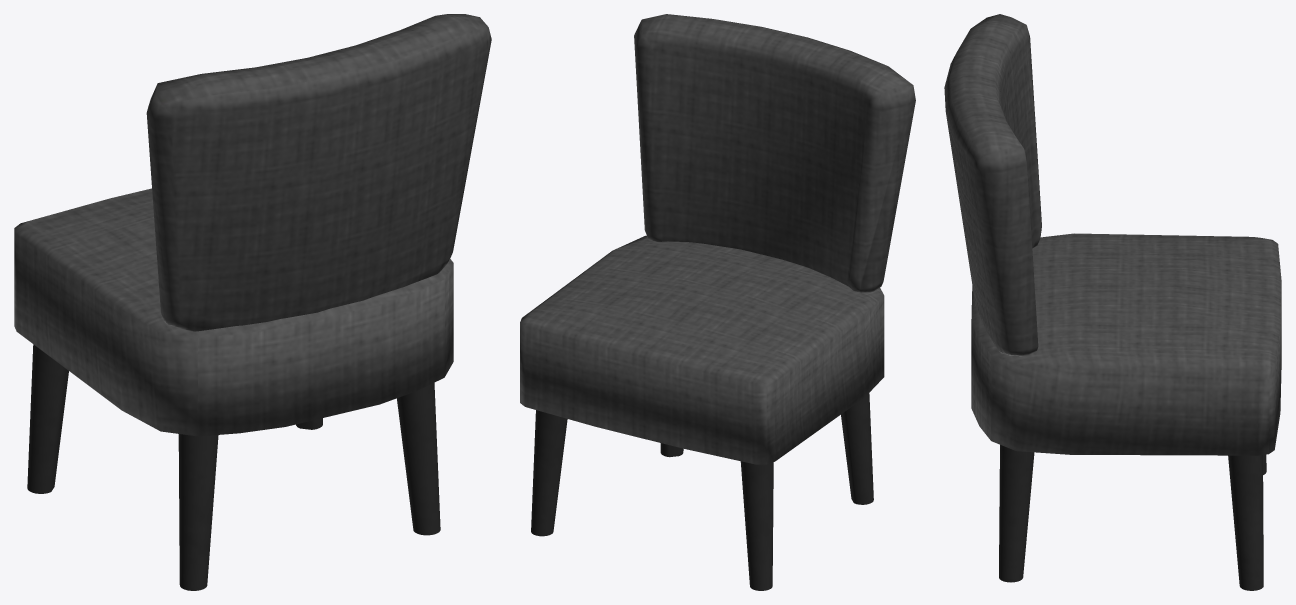
File: LIH0210043.fbx
The picture shows the model from 3 angles, left to right: view 1: azimuth 30°, elevation 25°; view 2: azimuth 150°, elevation 25°; view 3: azimuth 270°, elevation 25°; orthographic projection. The views are drawn at different scales.
Visible parts, largest first — view 1: smLIH0210043; view 2: smLIH0210043; view 3: smLIH0210043.
Boxes of the visible parts, x1,y1,x2,y2 form: smLIH0210043: [14, 14, 491, 590]; smLIH0210043: [520, 14, 915, 590]; smLIH0210043: [944, 14, 1281, 590].
Size of the model in its own units: 77.48 by 114 by 76.89.
Materials: 1 (1 with a texture image).
